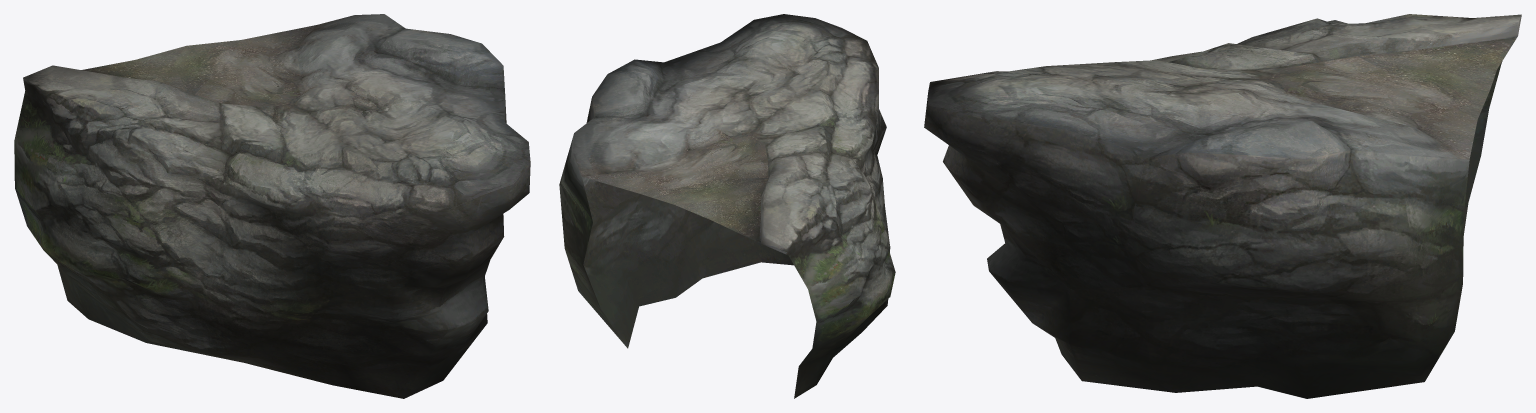
The model's file is gxy_rock02.FBX.
3 views of the same model, side by side, from view 1: azimuth 30°, elevation 25°; view 2: azimuth 150°, elevation 25°; view 3: azimuth 270°, elevation 25° (orthographic). The views are drawn at different scales.
Visible parts, largest first — view 1: gxy_rock02; view 2: gxy_rock02; view 3: gxy_rock02.
Part boxes in pixels (<box>): gxy_rock02: <box>14,14,530,398</box>; gxy_rock02: <box>559,14,895,398</box>; gxy_rock02: <box>924,14,1521,398</box>.
Size of the model in its own units: 1694 by 1104 by 2040.
